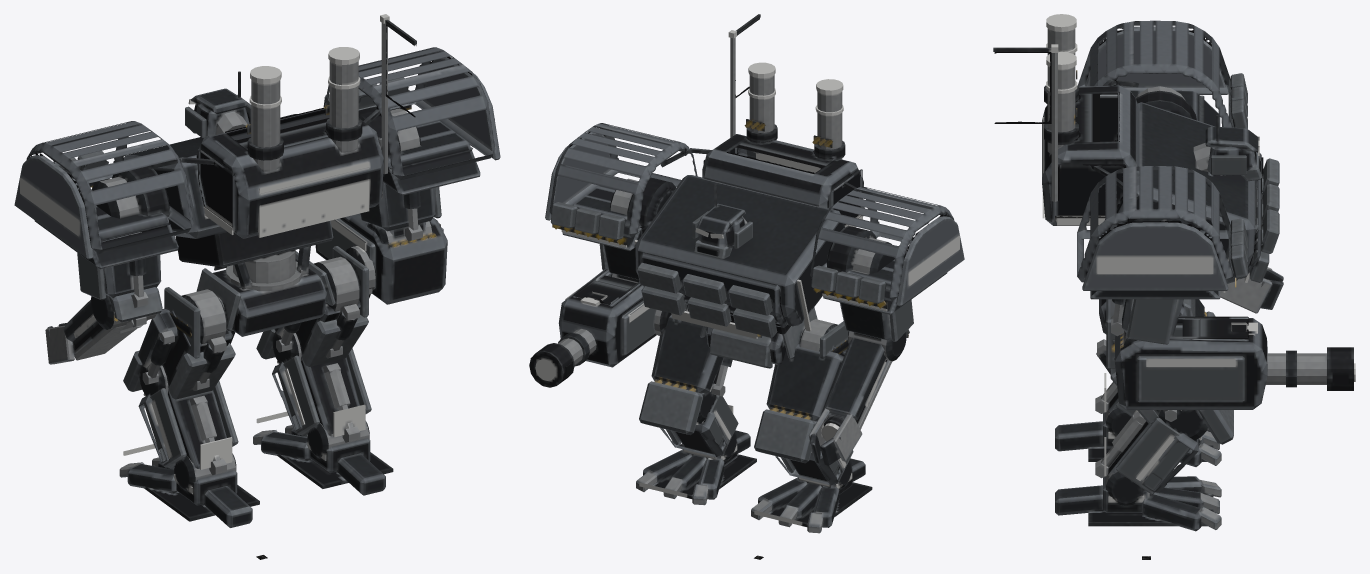
File: chs_warlord.fbx
3 renders of one model, left to right at view 1: azimuth 30°, elevation 25°; view 2: azimuth 150°, elevation 25°; view 3: azimuth 270°, elevation 25°, orthographic. The views are drawn at different scales.
Visible parts, largest first — view 1: torso_bar, base_bar, forearmR_bar, thighL_bar, torso_glow_power_bar, footL_bar, footR_bar, shinL_bar, shinR_bar, armL_bar, thighR_bar, nano_bar (+7 smaller); view 2: torso_bar, forearmR_bar, thighR_bar, thighL_bar, nano_bar, footL_bar, footR_bar, armL_bar, base_bar, torso_glow_power_bar, head_bar, shinR_bar (+4 smaller); view 3: torso_bar, forearmR_bar, footR_bar, shinR_bar, head_bar, footL_bar, armR_bar, thighR_bar, torso_glow_running_bar, nano_bar, torso_glow_power_bar, forearmR_glow_running_bar (+2 smaller).
Boxes of the visible parts, x1,y1,x2,y2 form: torso_bar: [14, 19, 500, 289]; base_bar: [196, 251, 335, 336]; forearmR_bar: [315, 213, 447, 304]; thighL_bar: [123, 308, 235, 399]; torso_glow_power_bar: [249, 47, 369, 237]; footL_bar: [119, 453, 259, 527]; footR_bar: [253, 421, 393, 495]; shinL_bar: [138, 381, 238, 475]; shinR_bar: [272, 348, 371, 442]; armL_bar: [77, 177, 161, 329]; thighR_bar: [256, 288, 372, 366]; nano_bar: [45, 287, 162, 364]; torso_bar: [545, 14, 964, 337]; forearmR_bar: [529, 269, 671, 387]; thighR_bar: [639, 315, 732, 435]; thighL_bar: [754, 338, 845, 463]; nano_bar: [808, 329, 909, 465]; footL_bar: [751, 458, 872, 533]; footR_bar: [636, 430, 756, 505]; armL_bar: [839, 238, 913, 361]; base_bar: [699, 307, 817, 368]; torso_glow_power_bar: [561, 62, 887, 338]; head_bar: [692, 184, 752, 259]; shinR_bar: [660, 395, 738, 457]; torso_bar: [993, 20, 1279, 299]; forearmR_bar: [1115, 316, 1353, 409]; footR_bar: [1055, 472, 1221, 531]; shinR_bar: [1095, 411, 1198, 494]; head_bar: [1193, 115, 1263, 181]; footL_bar: [1055, 407, 1221, 466]; armR_bar: [1111, 299, 1183, 347]; thighR_bar: [1096, 339, 1233, 444]; torso_glow_running_bar: [1051, 44, 1228, 273]; nano_bar: [1220, 267, 1283, 313]; torso_glow_power_bar: [1042, 14, 1249, 292]; forearmR_glow_running_bar: [1146, 358, 1235, 366].
Size of the model in its own units: 1062 by 1357 by 811.
2 materials, 2 textured.
